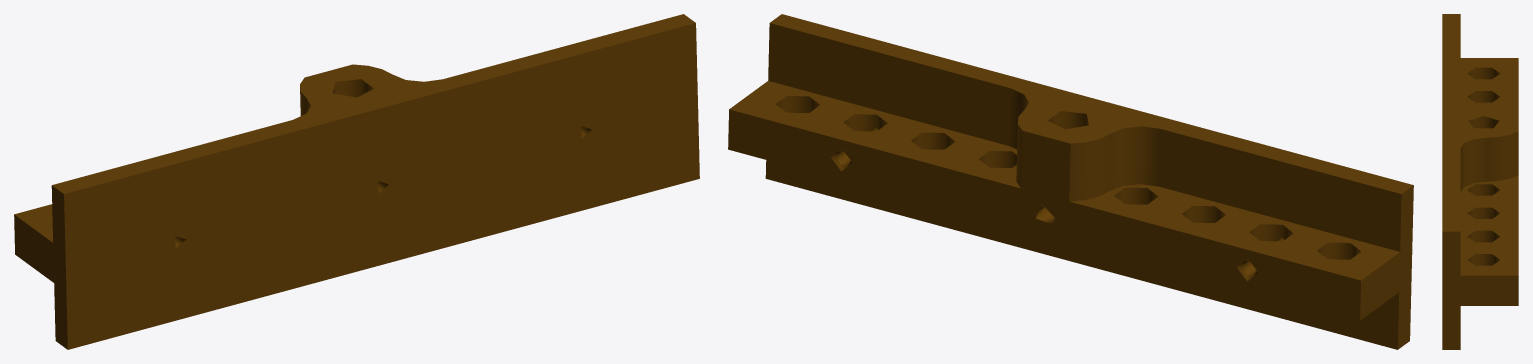
Rendered from Attache balancier 2.obj.
3 renders of one model, left to right at view 1: azimuth 30°, elevation 25°; view 2: azimuth 150°, elevation 25°; view 3: azimuth 270°, elevation 25°, orthographic. The views are drawn at different scales.
Parts seen in each view (by area): view 1: Face_10, Face_7, Face_6, Face_2, Face_17; view 2: Face_12, Face_4, Face_1, Face_5, Face_7, Face_2, Face_3, Face_6, Face_14, Face_13, Face_15, Face_22 (+8 smaller); view 3: Face_7, Face_3, Face_8, Face_2, Face_16, Face_15, Face_20, Face_25, Face_21, Face_19, Face_24, Face_18 (+1 smaller).
Part boxes in pixels (x1=…): Face_10: x1=64, y1=23, x2=699, y2=349; Face_7: x1=52, y1=14, x2=695, y2=193; Face_6: x1=14, y1=185, x2=67, y2=349; Face_2: x1=14, y1=204, x2=52, y2=242; Face_17: x1=333, y1=79, x2=373, y2=97; Face_12: x1=728, y1=109, x2=1360, y2=320; Face_4: x1=1159, y1=129, x2=1401, y2=251; Face_1: x1=768, y1=23, x2=1010, y2=145; Face_5: x1=765, y1=160, x2=1399, y2=349; Face_7: x1=770, y1=14, x2=1413, y2=193; Face_2: x1=1070, y1=184, x2=1399, y2=280; Face_3: x1=729, y1=81, x2=1020, y2=188; Face_6: x1=1360, y1=185, x2=1413, y2=349; Face_14: x1=1109, y1=126, x2=1160, y2=191; Face_13: x1=1069, y1=134, x2=1110, y2=201; Face_15: x1=1009, y1=88, x2=1028, y2=149; Face_22: x1=1114, y1=187, x2=1158, y2=204; Face_7: x1=1442, y1=14, x2=1518, y2=231; Face_3: x1=1460, y1=175, x2=1518, y2=275; Face_8: x1=1442, y1=231, x2=1518, y2=349; Face_2: x1=1460, y1=58, x2=1518, y2=114; Face_16: x1=1488, y1=131, x2=1518, y2=181; Face_15: x1=1460, y1=137, x2=1487, y2=191; Face_20: x1=1467, y1=230, x2=1499, y2=242; Face_25: x1=1467, y1=67, x2=1499, y2=79; Face_21: x1=1467, y1=254, x2=1499, y2=265; Face_19: x1=1467, y1=207, x2=1500, y2=218; Face_24: x1=1467, y1=91, x2=1499, y2=102; Face_18: x1=1467, y1=184, x2=1499, y2=195.
Bounding box in the file's own units: 0.0658 × 0.0172 × 0.0092.
